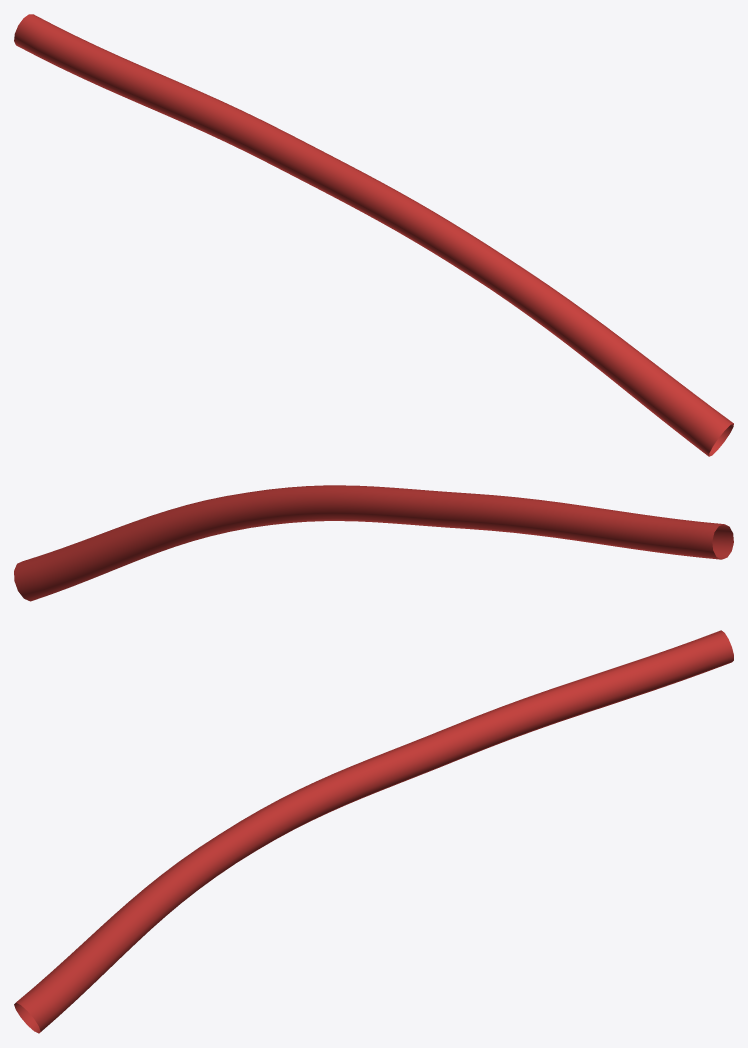
3 renders of one model, top to bottom at view 1: azimuth 30°, elevation 25°; view 2: azimuth 210°, elevation 25°; view 3: azimuth 270°, elevation 25°, orthographic. The views are drawn at different scales.
Visible parts, largest first — view 1: 右侧肱深动脉; view 2: 右侧肱深动脉; view 3: 右侧肱深动脉.
Part boxes in pixels (x1,y1,x2,y2): 右侧肱深动脉: (14,14,733,456); 右侧肱深动脉: (14,485,733,601); 右侧肱深动脉: (14,630,733,1033).
Size of the model in its own units: 0.0518 by 0.0351 by 0.0928.
